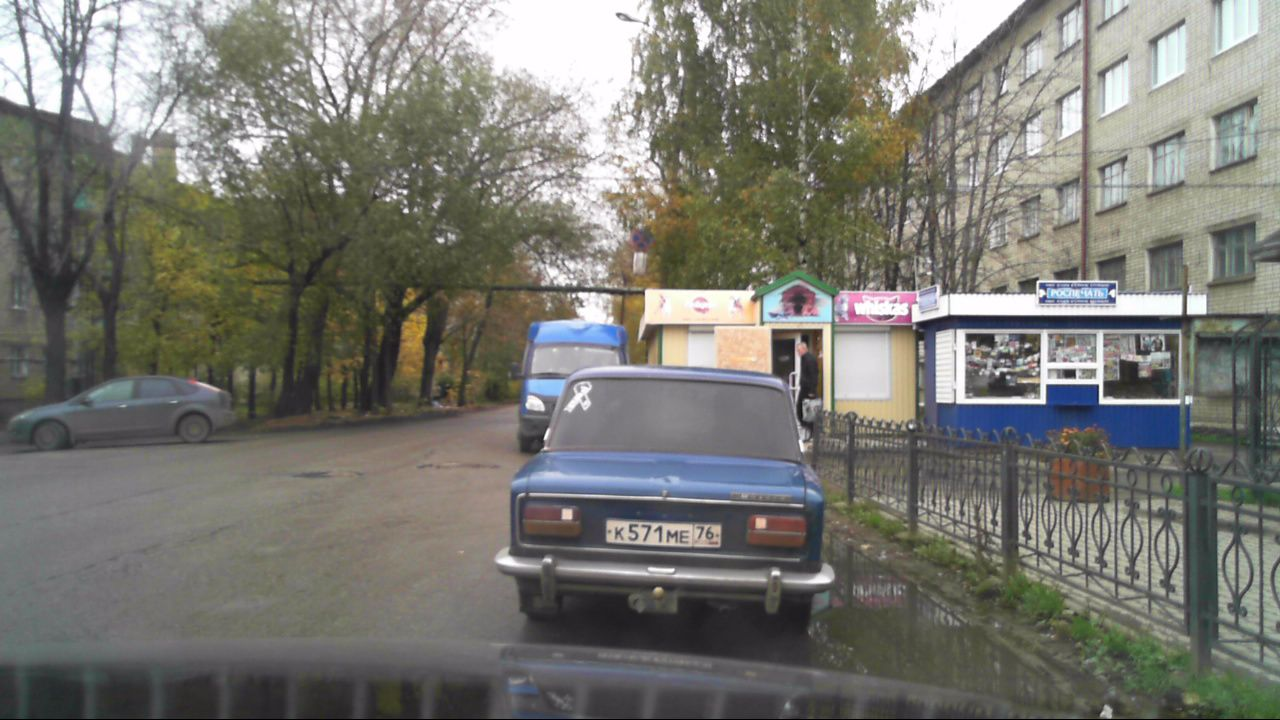No Parking: (629, 227, 653, 251)
